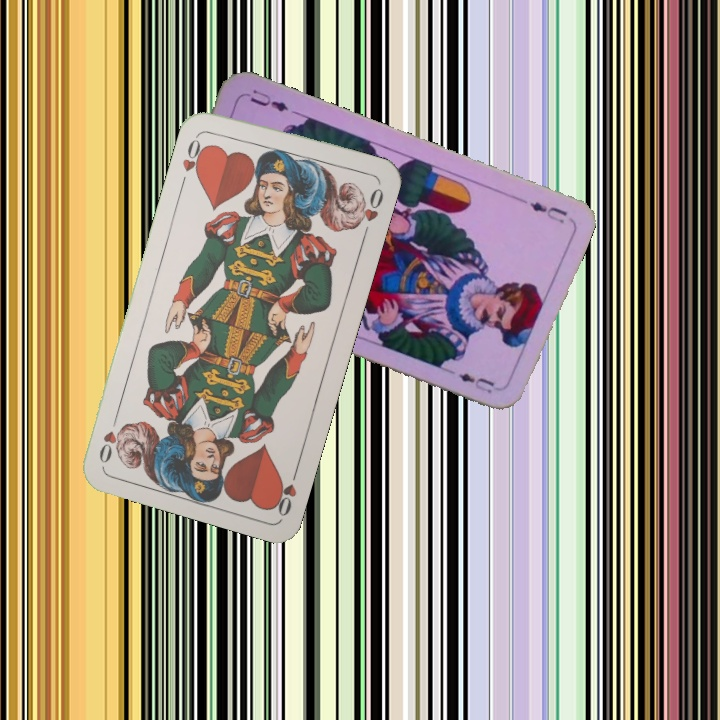EU: (525, 197, 570, 226)
HO: (268, 461, 302, 519), (177, 129, 210, 187)
